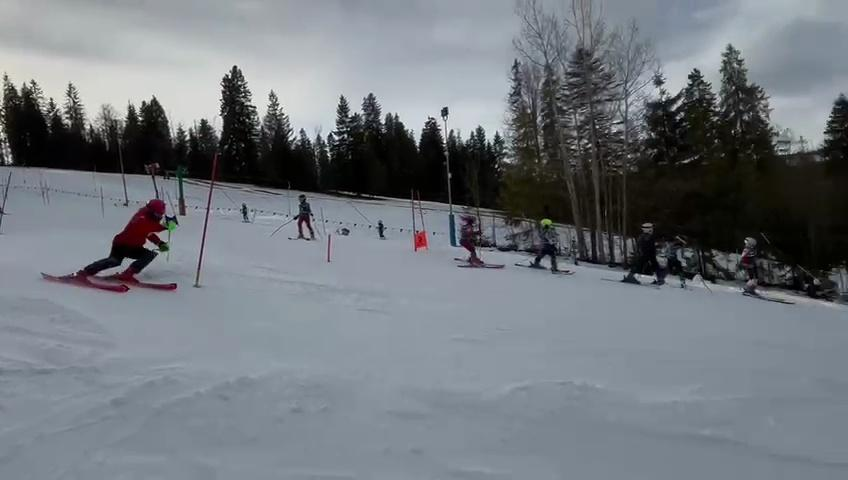gate: (185, 155, 228, 296), (405, 192, 420, 256), (417, 197, 432, 251), (320, 231, 333, 266)
